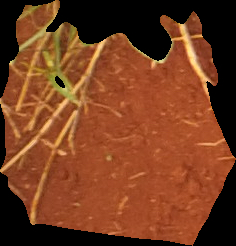soil: (2, 1, 235, 246)
